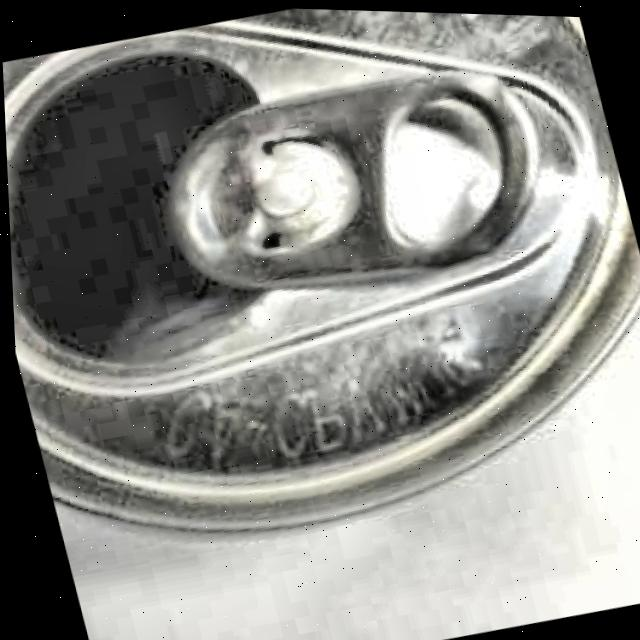metal: (0, 0, 640, 587)
